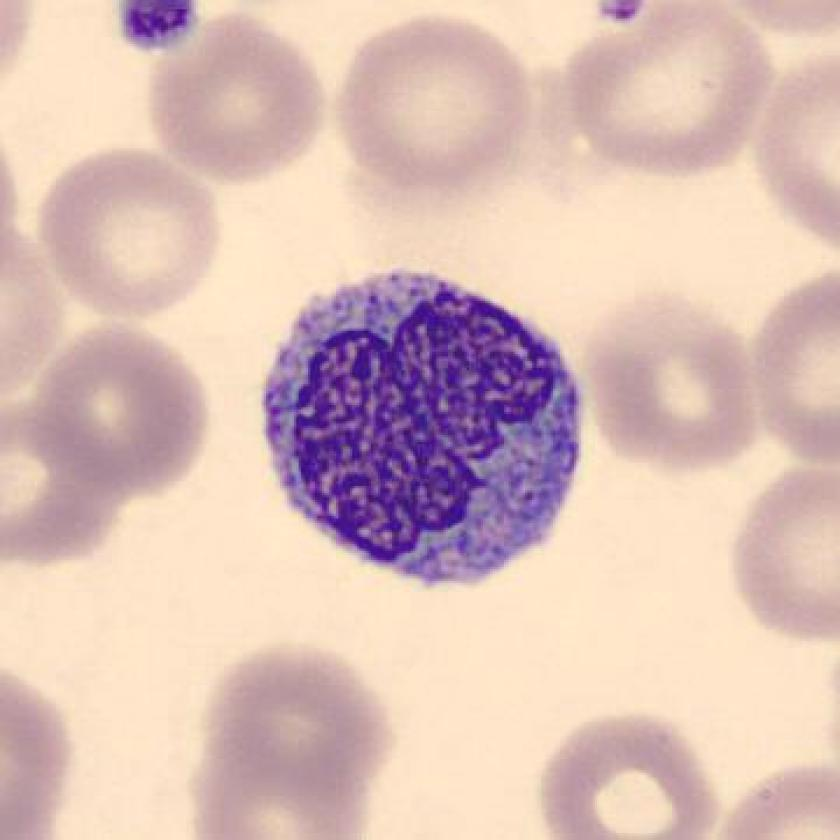monocyte: (241, 254, 603, 608)
